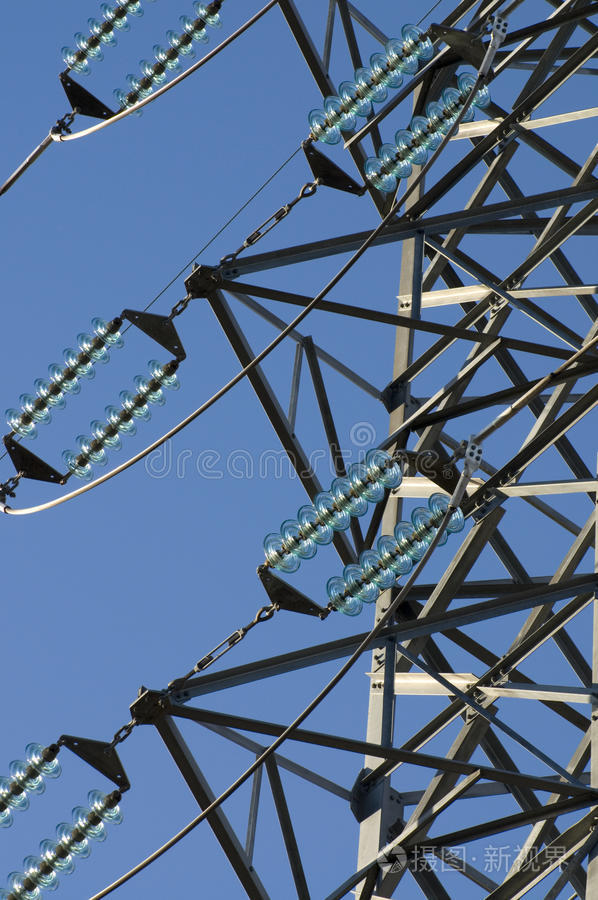insulator: (260, 445, 401, 571), (324, 494, 464, 615), (361, 70, 493, 189), (5, 313, 121, 440), (308, 19, 427, 137), (61, 359, 176, 479), (114, 1, 230, 119), (7, 788, 126, 900), (61, 1, 142, 75), (1, 737, 63, 824)
